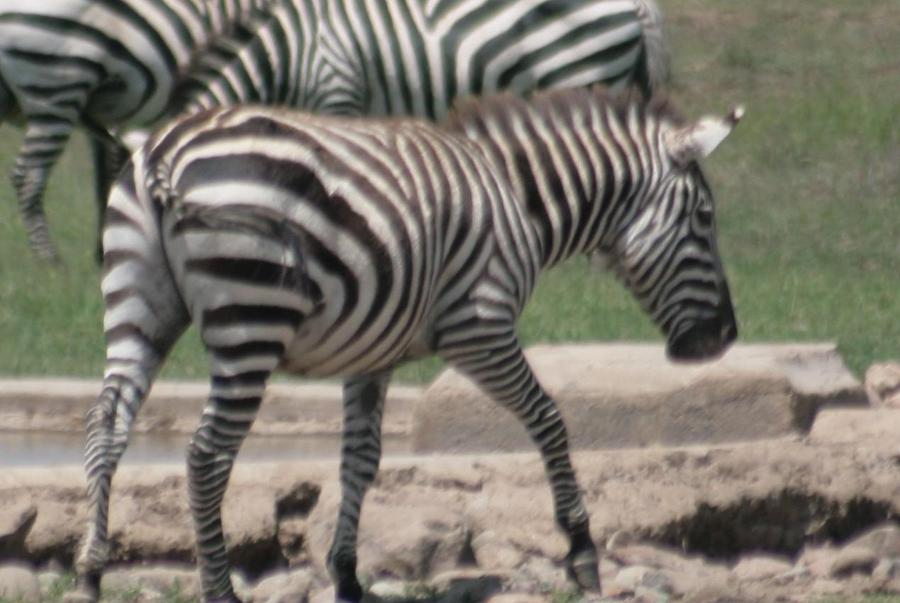zebra_plains: (144, 60, 577, 442)
